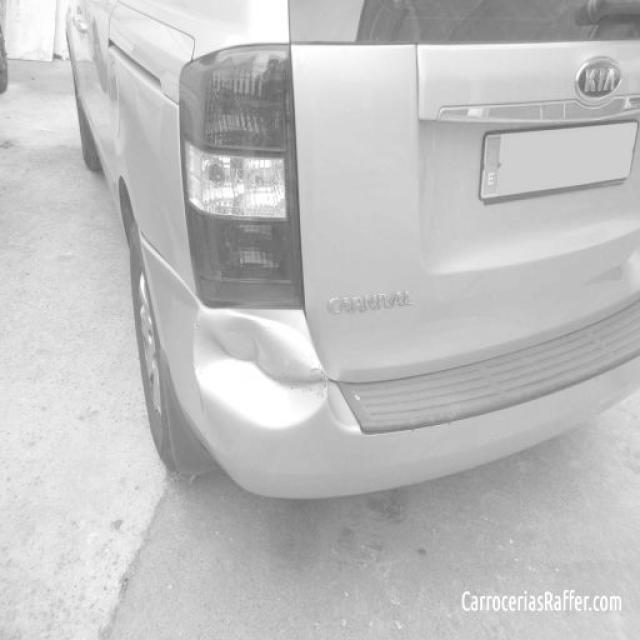car damage: (192, 309, 329, 428)
